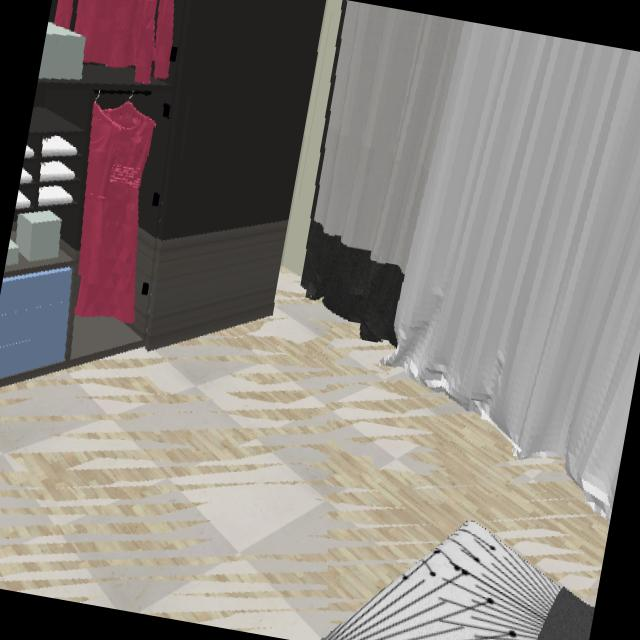shower: (321, 521, 594, 640)
